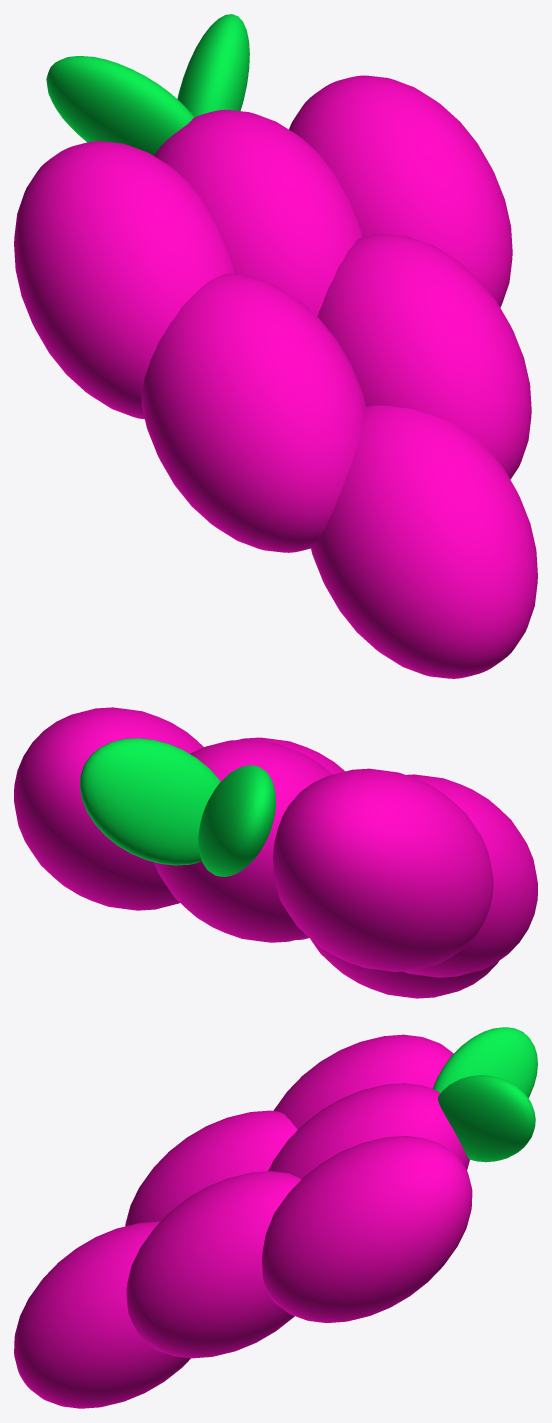
File: Grapes.FBX
3 views of the same model, one above another, from view 1: azimuth 30°, elevation 25°; view 2: azimuth 150°, elevation 25°; view 3: azimuth 270°, elevation 25° (orthographic). The views are drawn at different scales.
Visible parts, largest first — view 1: Sphere142, Sphere143, Sphere139, Sphere141, Sphere140, Sphere137, Sphere136, Sphere138; view 2: Sphere139, Sphere140, Sphere138, Sphere137, Sphere142, Sphere136, Sphere143, Sphere141; view 3: Sphere140, Sphere141, Sphere143, Sphere137, Sphere142, Sphere139, Sphere138, Sphere136.
Boxes of the visible parts, x1=… form: Sphere142: x1=141, y1=273, x2=366, y2=552; Sphere143: x1=311, y1=405, x2=537, y2=678; Sphere139: x1=14, y1=141, x2=234, y2=419; Sphere141: x1=317, y1=234, x2=531, y2=479; Sphere140: x1=289, y1=75, x2=512, y2=307; Sphere137: x1=154, y1=109, x2=362, y2=316; Sphere136: x1=46, y1=56, x2=194, y2=155; Sphere138: x1=177, y1=14, x2=249, y2=116; Sphere139: x1=273, y1=768, x2=493, y2=971; Sphere140: x1=14, y1=707, x2=203, y2=910; Sphere138: x1=79, y1=738, x2=220, y2=865; Sphere137: x1=154, y1=739, x2=332, y2=942; Sphere142: x1=403, y1=774, x2=537, y2=977; Sphere136: x1=198, y1=765, x2=275, y2=876; Sphere143: x1=310, y1=939, x2=498, y2=998; Sphere141: x1=238, y1=737, x2=344, y2=939; Sphere140: x1=262, y1=1136, x2=472, y2=1322; Sphere141: x1=126, y1=1171, x2=301, y2=1358; Sphere143: x1=14, y1=1221, x2=190, y2=1408; Sphere137: x1=268, y1=1083, x2=469, y2=1179; Sphere142: x1=125, y1=1110, x2=297, y2=1226; Sphere139: x1=273, y1=1034, x2=453, y2=1129; Sphere138: x1=438, y1=1075, x2=535, y2=1162; Sphere136: x1=432, y1=1027, x2=537, y2=1097.
Size of the model in its own units: 8.13 by 10.42 by 7.5.
Materials: 8 (8 with a texture image).
